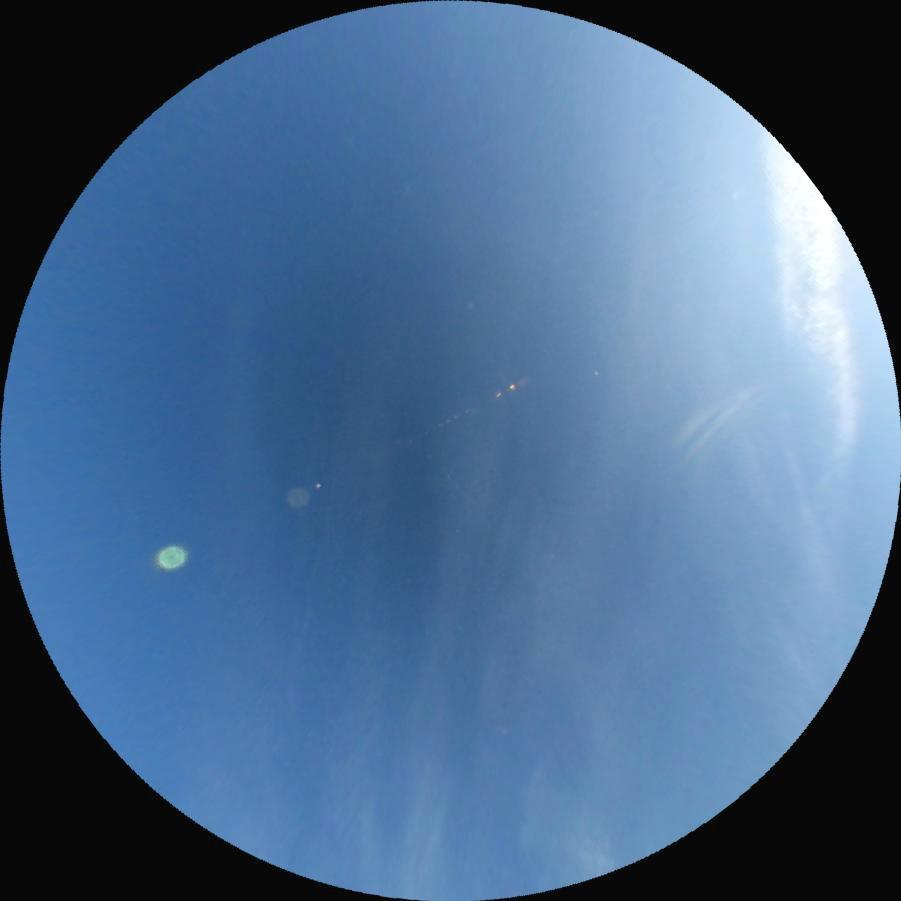parasite: (666, 394, 727, 451)
unknow: (764, 126, 867, 509)
